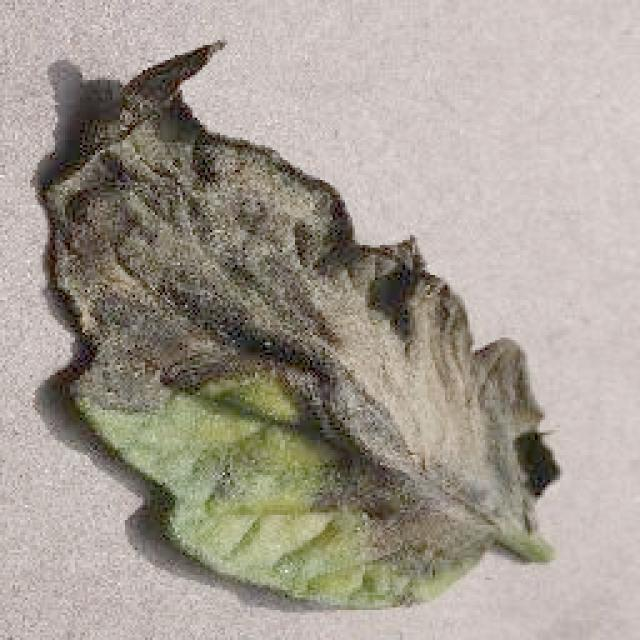Tomato late blight leaf: (44, 39, 562, 606)
